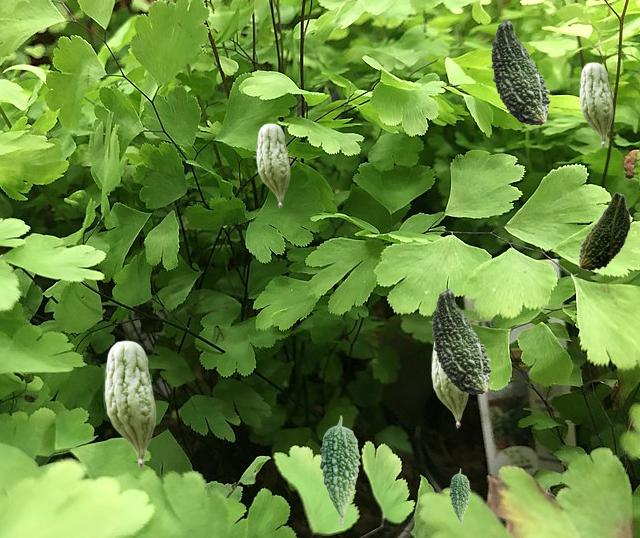ampalaya: (104, 340, 155, 467), (491, 19, 549, 124), (432, 288, 490, 393), (319, 415, 359, 525), (578, 192, 630, 270), (431, 343, 468, 427), (579, 62, 612, 146), (256, 123, 289, 207), (449, 468, 469, 525)
